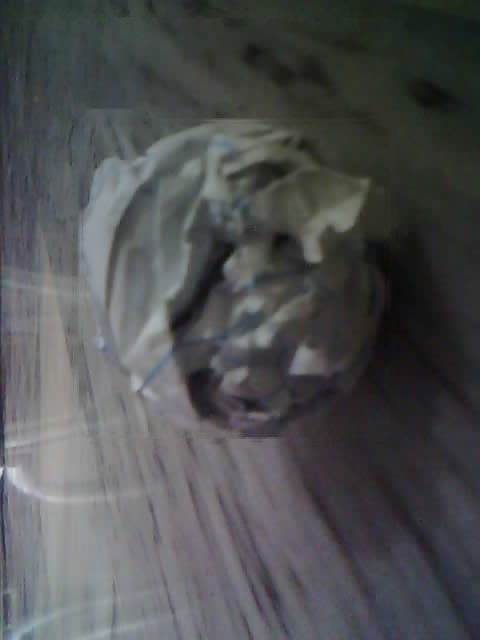paper: (80, 118, 385, 440)
